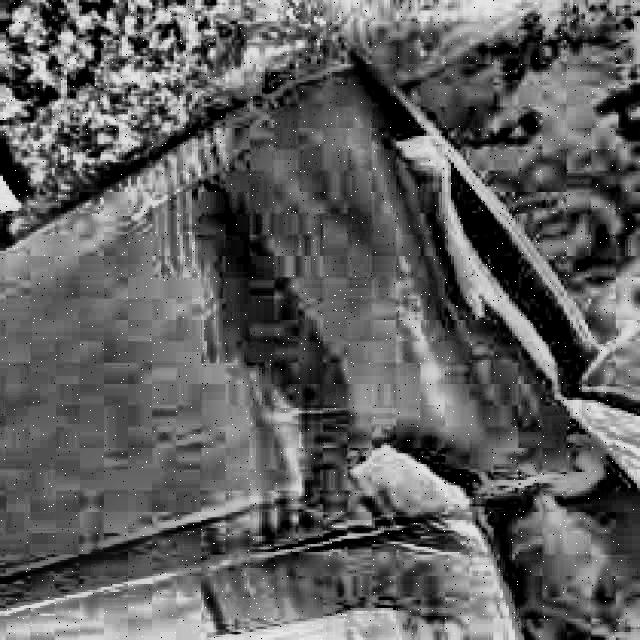box: (1, 33, 640, 640)
wet: (194, 81, 579, 493)
